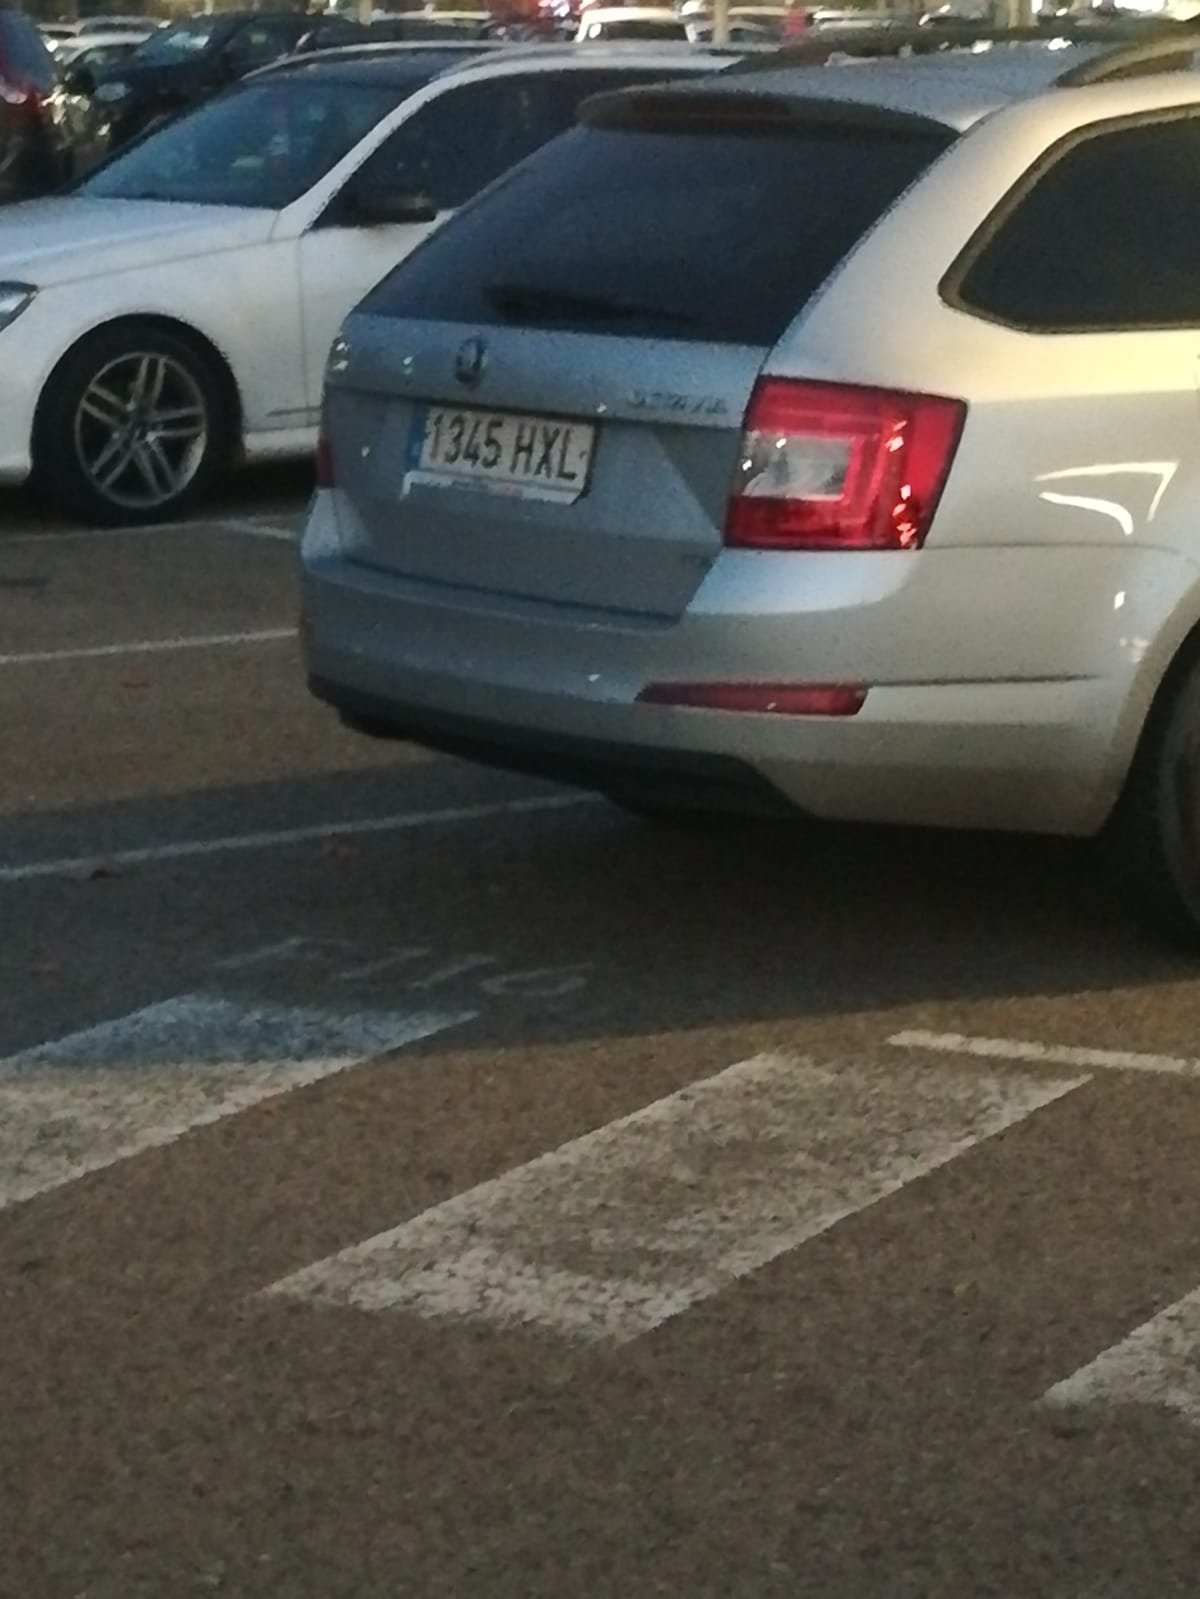Car: (298, 77, 1184, 955)
Plate: (416, 398, 598, 477)
